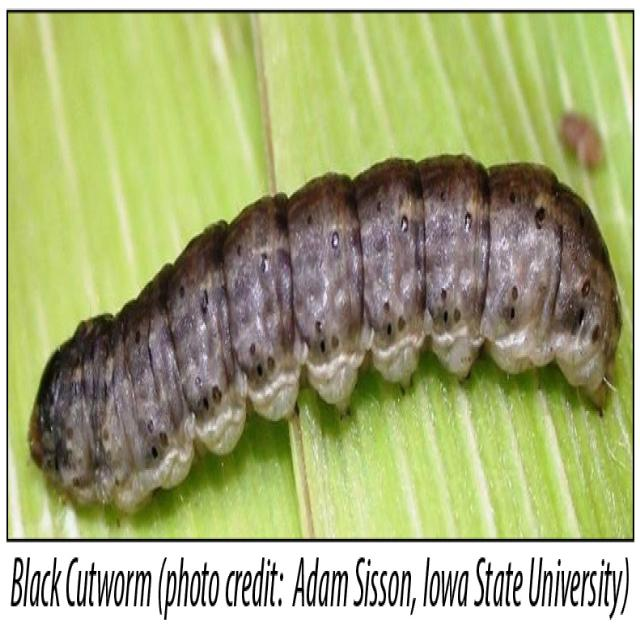worm: (28, 151, 623, 516)
